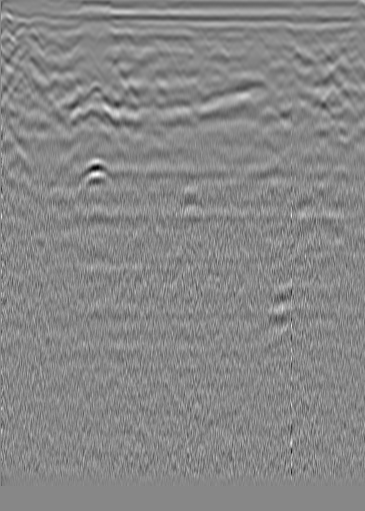가스: (71, 156, 118, 195)
상수: (318, 30, 338, 50)
오수: (41, 31, 61, 51)
우수: (182, 27, 202, 47)
